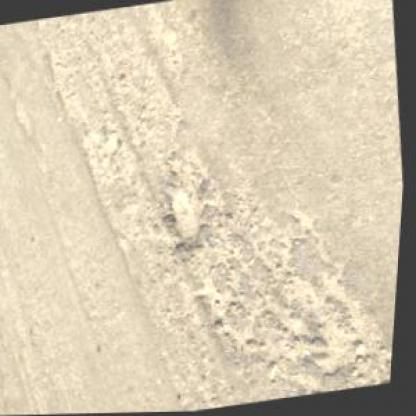pothole: (162, 183, 208, 252)
